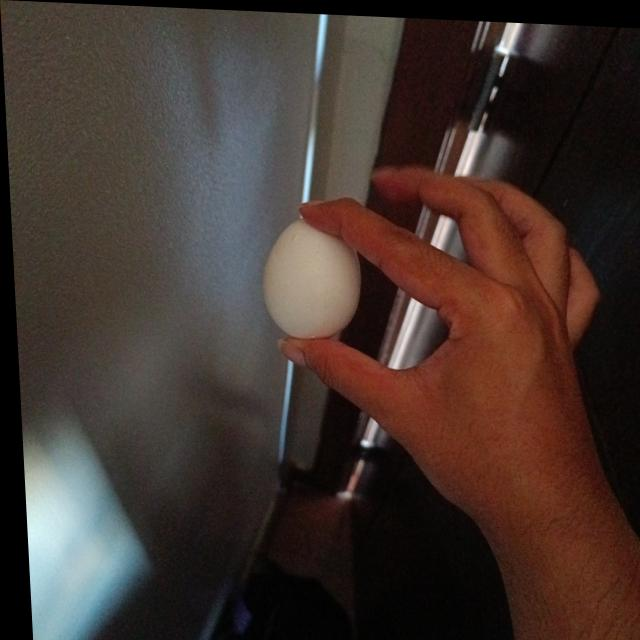egg: (256, 213, 361, 337)
